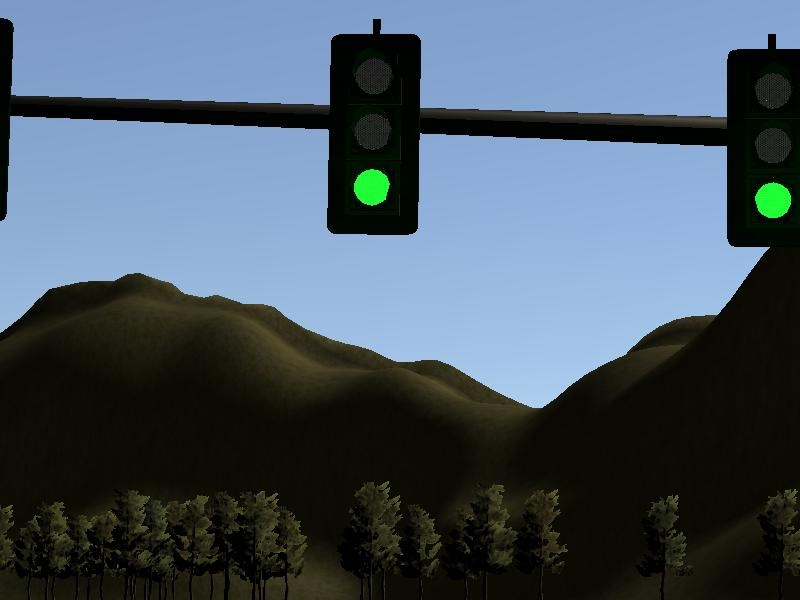GREEN: (328, 34, 420, 235), (726, 48, 800, 249)
